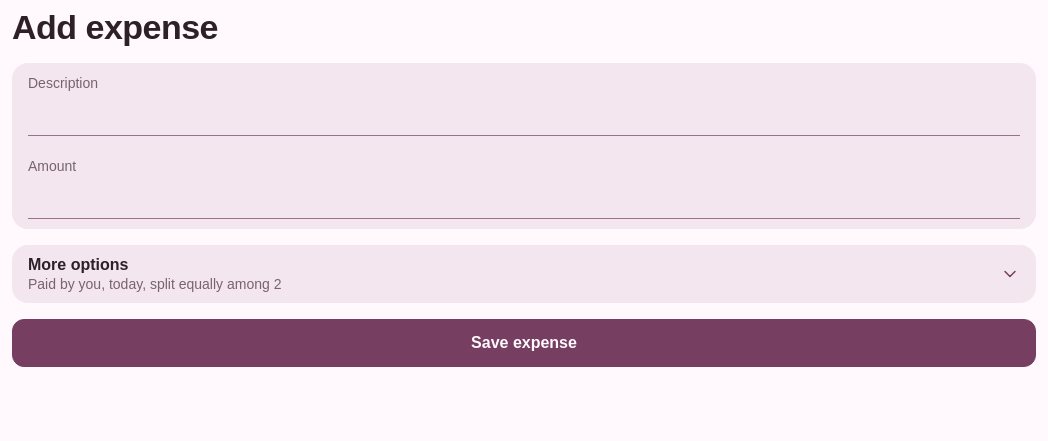
Test: ExpenseEditorPage › offline drafts › does not keep a draft when the server rejects the expense
This screenshot has width=1048, height=441.
Type "Dinner" into the field labelled "Description".
click(524, 116); type("Dinner")  # box x1=28 y1=96 x2=1020 y2=136
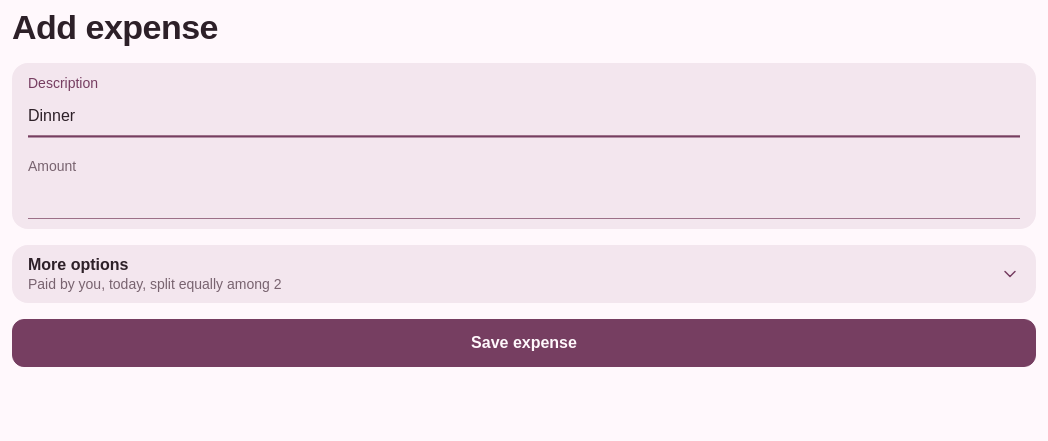
Type "10.01" into the field labelled "Amount".
click(524, 199); type("10.01")  # box x1=28 y1=179 x2=1020 y2=219
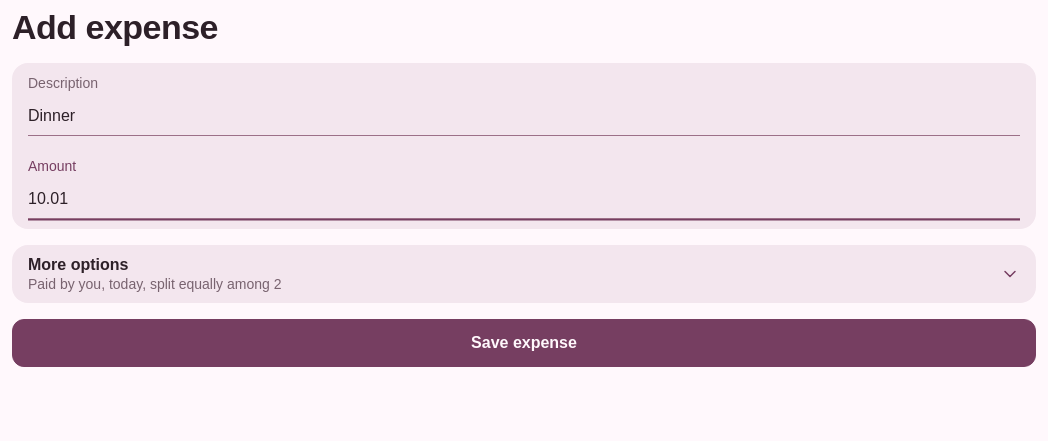
Click the button "Save expense".
click(524, 343)  # box x1=12 y1=319 x2=1036 y2=367
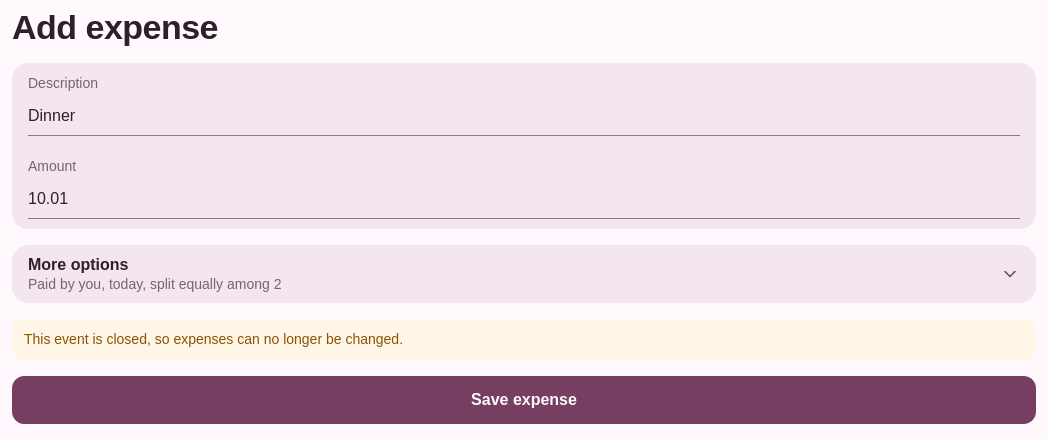
expect the message shows "This event is closed": met, box x1=24 y1=331 x2=403 y2=347
